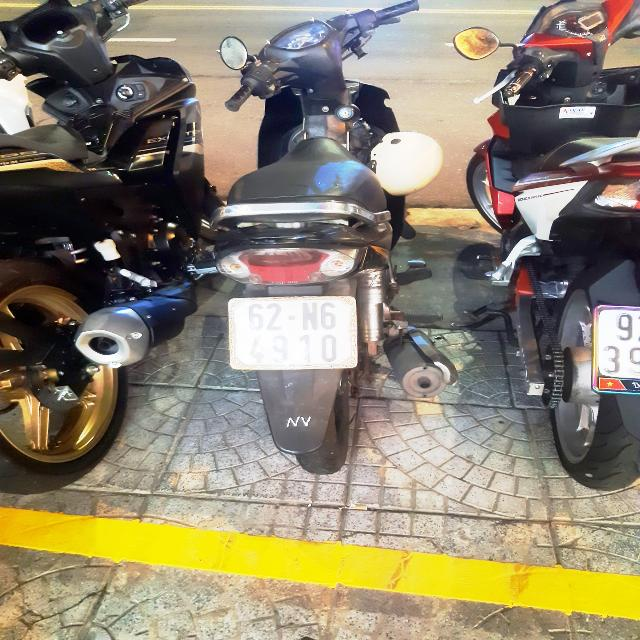license_plate: (233, 299, 354, 370)
